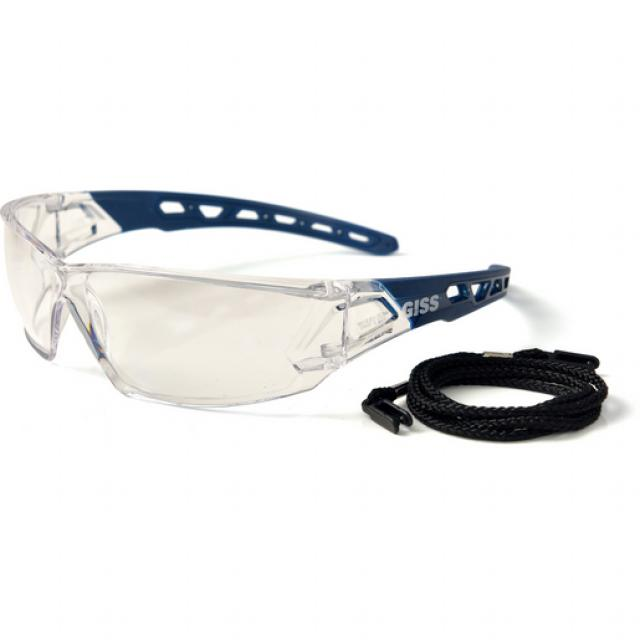Protective Glasses: (0, 164, 520, 430)
